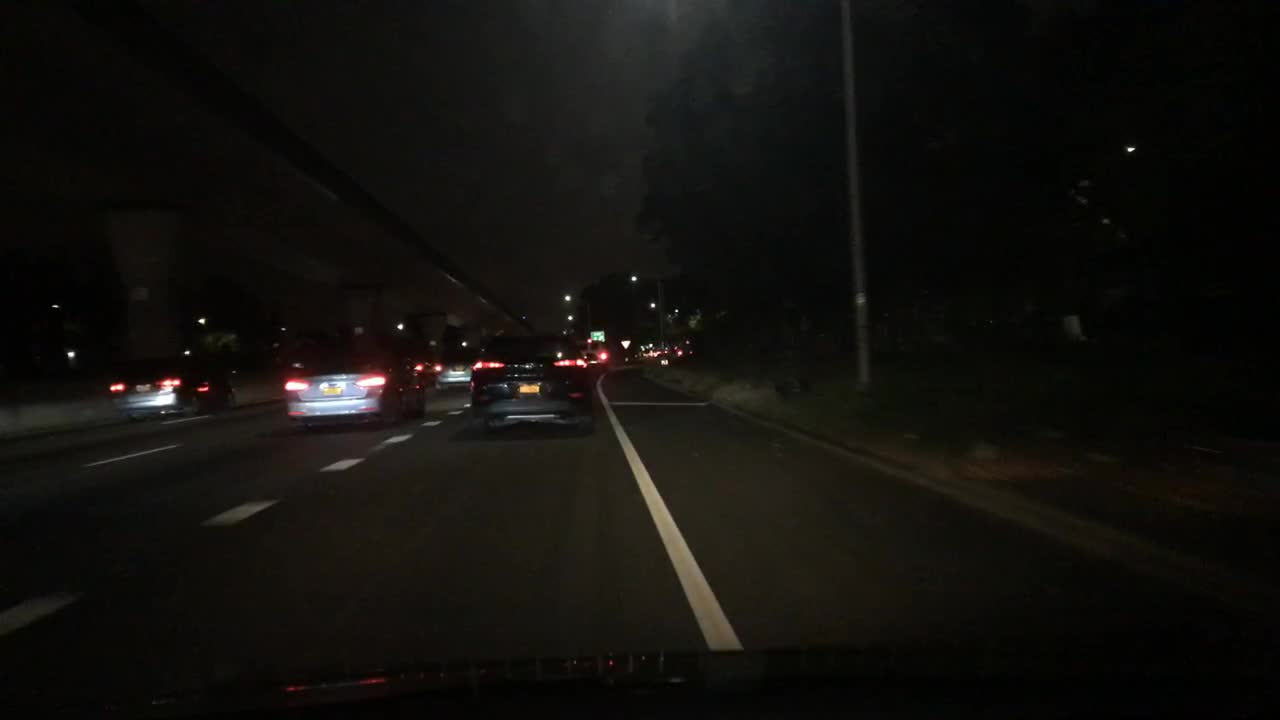car: (469, 338, 596, 434), (283, 348, 424, 431), (103, 353, 232, 433), (433, 340, 473, 394), (579, 340, 609, 372), (672, 335, 694, 362), (646, 343, 663, 355)
traffic sign: (588, 329, 606, 341), (621, 338, 630, 349)
